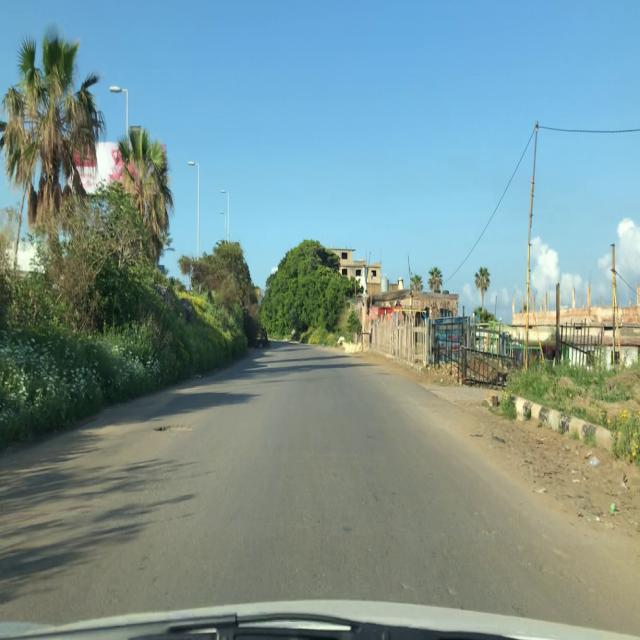Pothole: (151, 422, 198, 434)
